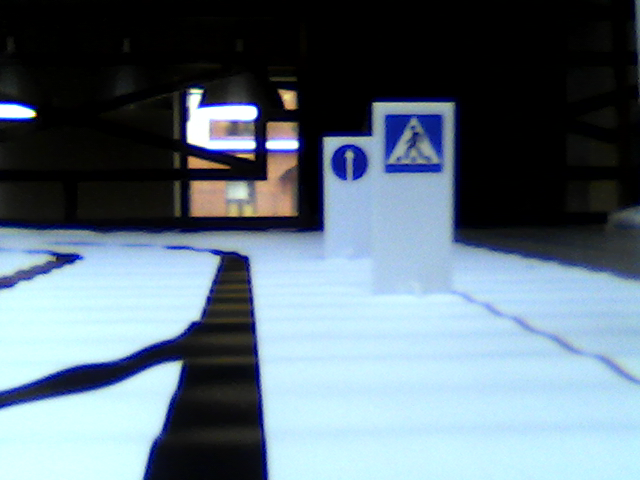forw: (331, 144, 367, 181)
pesh: (384, 113, 443, 172)
